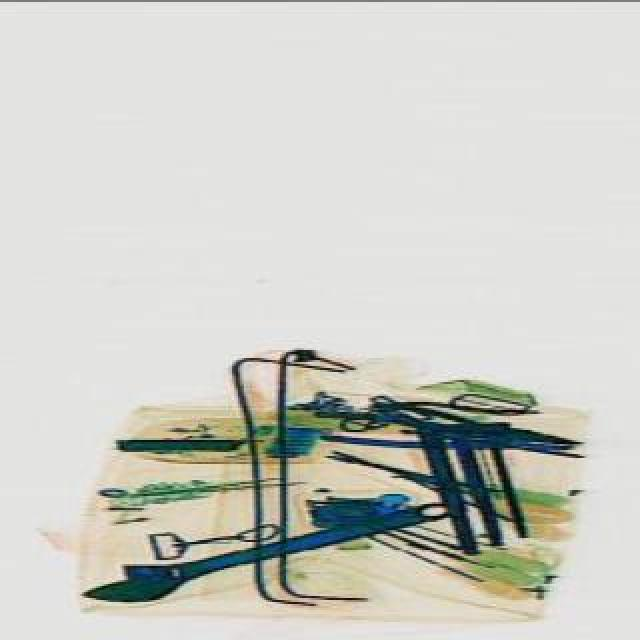scissors: (70, 490, 458, 620)
wrench: (304, 412, 568, 466)
